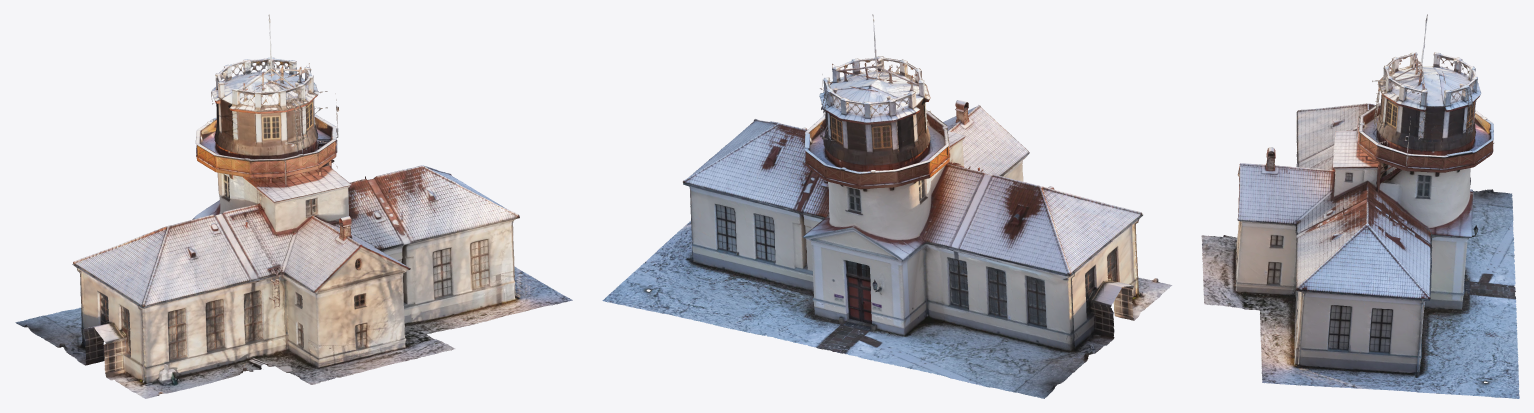
Rendered from tartu_old_observatory_mesh_model-optimized2.glb.
The picture shows the model from 3 angles, left to right: view 1: azimuth 30°, elevation 25°; view 2: azimuth 150°, elevation 25°; view 3: azimuth 270°, elevation 25°; orthographic projection. The views are drawn at different scales.
Visible parts, largest first — view 1: Object_2; view 2: Object_2; view 3: Object_2.
Part boxes in pixels (x1,y1,x2,y2): Object_2: (15,14,572,398); Object_2: (602,14,1172,398); Object_2: (1201,14,1519,398).
Size of the model in its own units: 36.57 by 24.06 by 24.41.
1 material, 1 textured.
